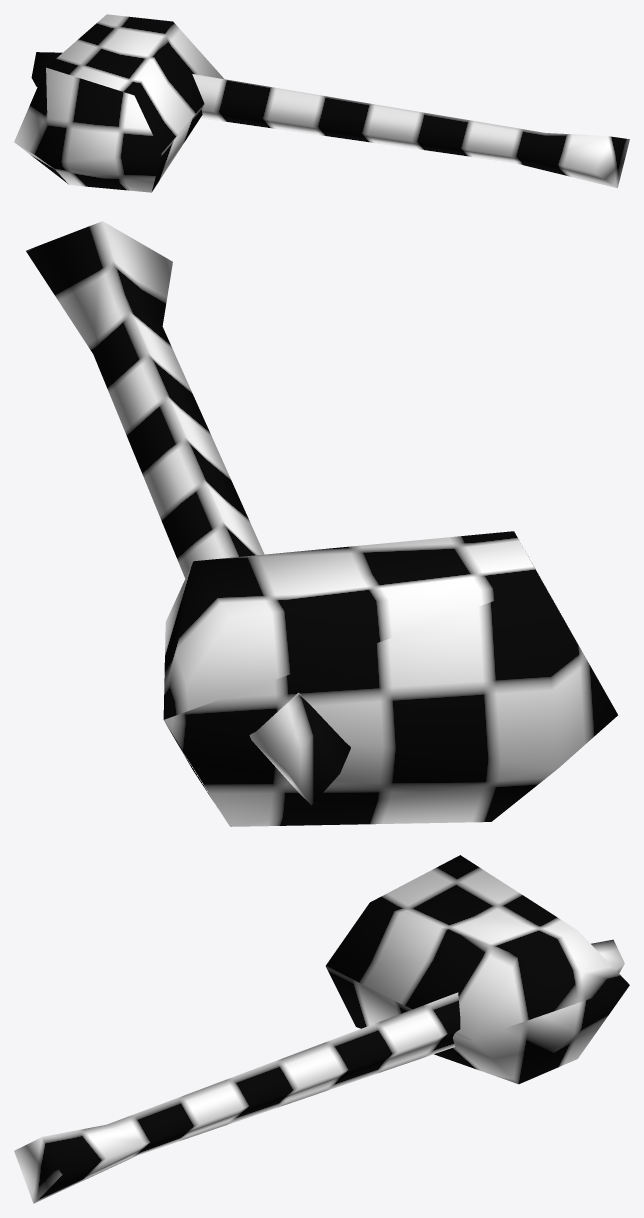
File: initwehm2.dae
The picture shows the model from 3 angles, top to bottom: view 1: azimuth 30°, elevation 25°; view 2: azimuth 150°, elevation 25°; view 3: azimuth 270°, elevation 25°; orthographic projection. The views are drawn at different scales.
Parts seen in each view (by area): view 1: weapon; view 2: weapon; view 3: weapon.
Boxes of the visible parts, x1,y1,x2,y2 form: weapon: [14, 14, 629, 192]; weapon: [26, 221, 617, 826]; weapon: [14, 855, 629, 1203].
Bounding box in the file's own units: 2.02 × 2 × 0.5456.
Materials: 1 (1 with a texture image).
